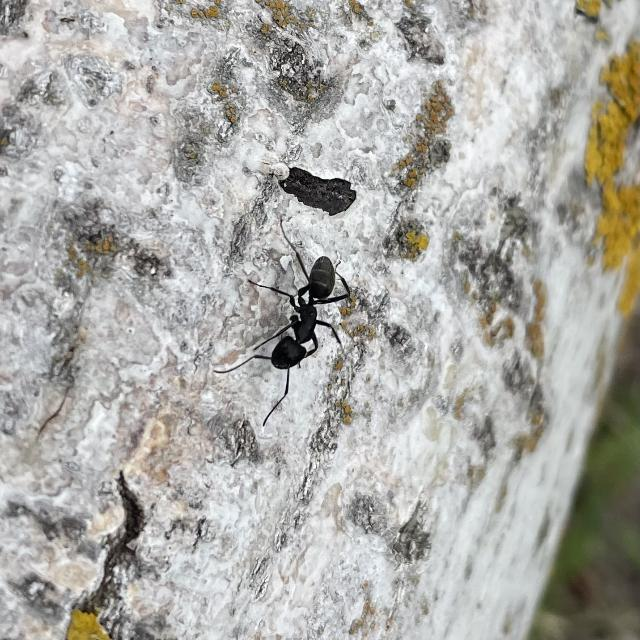Camponotus: (232, 245, 370, 382)
